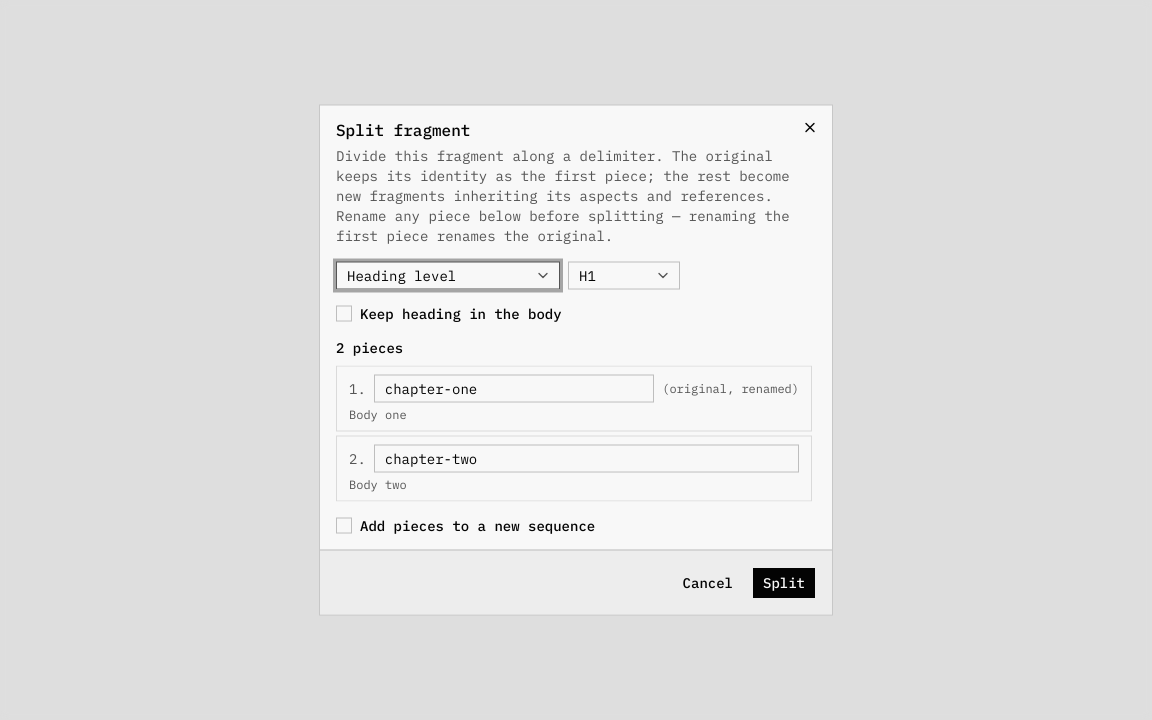
Test case: SplitFragmentDialog › shows '(original)' when the user edits piece 1 back to the original's current key
Expected: the text "(original, renamed)" is shown, [662,380,799,396]
# Typing the original's own current key back cancels the rename.
Replace the text in the field showing "chapter-one" with "original-key" at (514, 388), box [374,374,654,402]
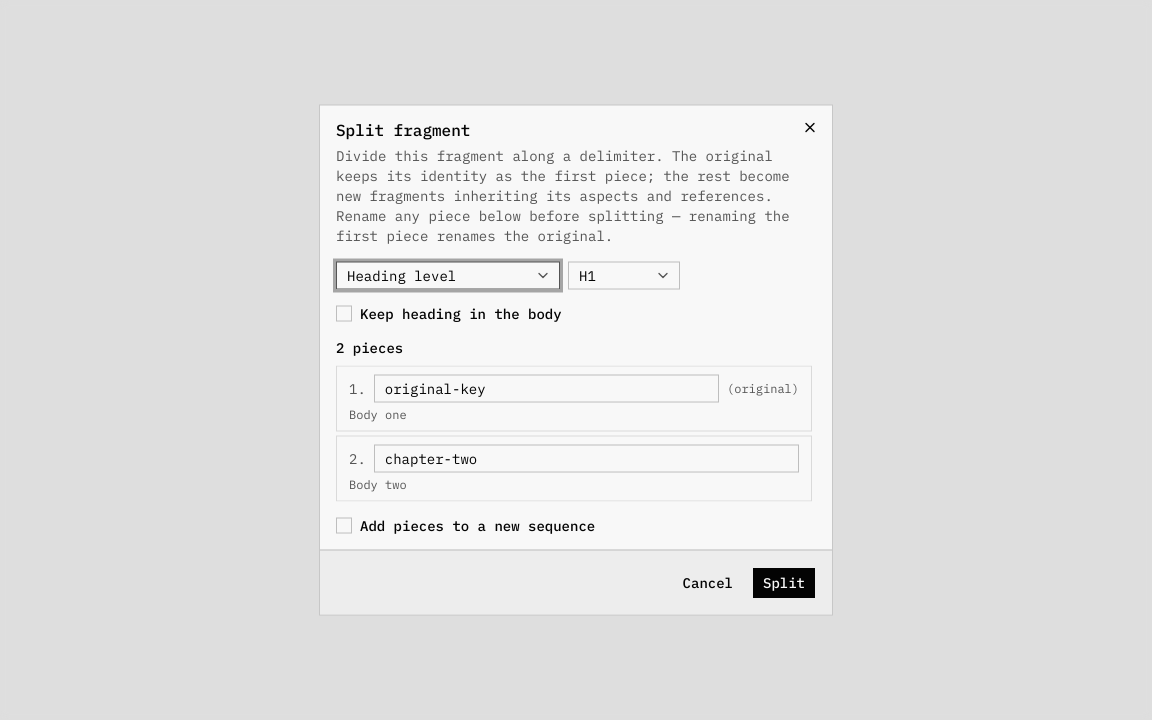
Expected: the text "(original)" is shown, [727,380,799,396]
Expected: the text "(original, renamed)" is gone
